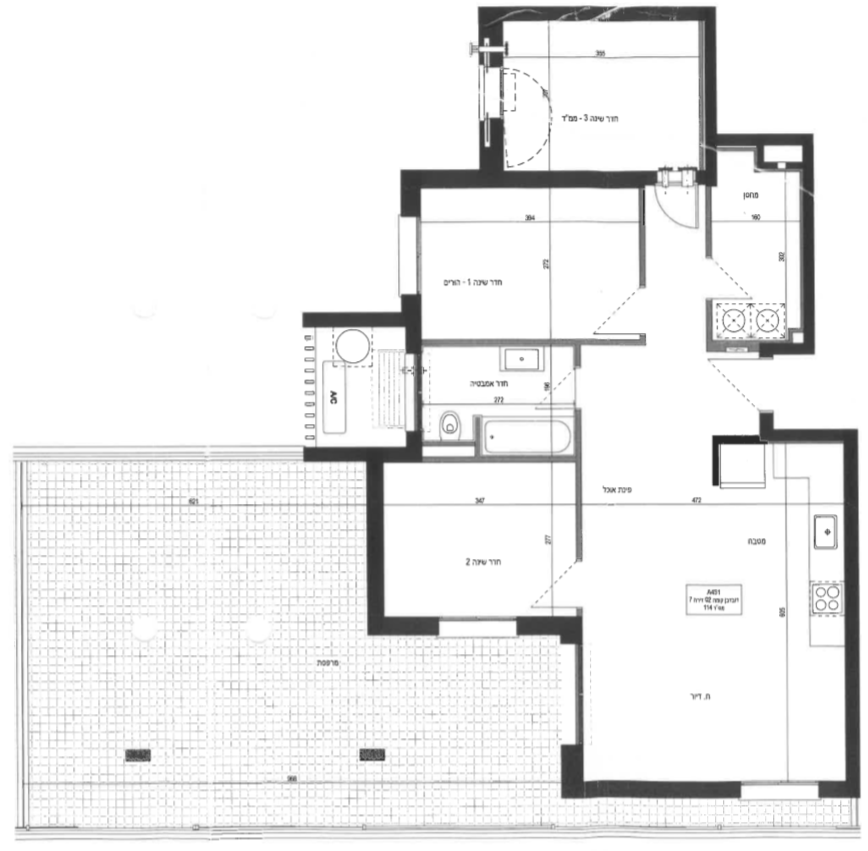door: (651, 189, 704, 238)
wall: (350, 443, 420, 647), (383, 162, 530, 211), (843, 429, 860, 798), (800, 127, 815, 362), (591, 779, 728, 796), (309, 445, 423, 462), (705, 7, 717, 154)
